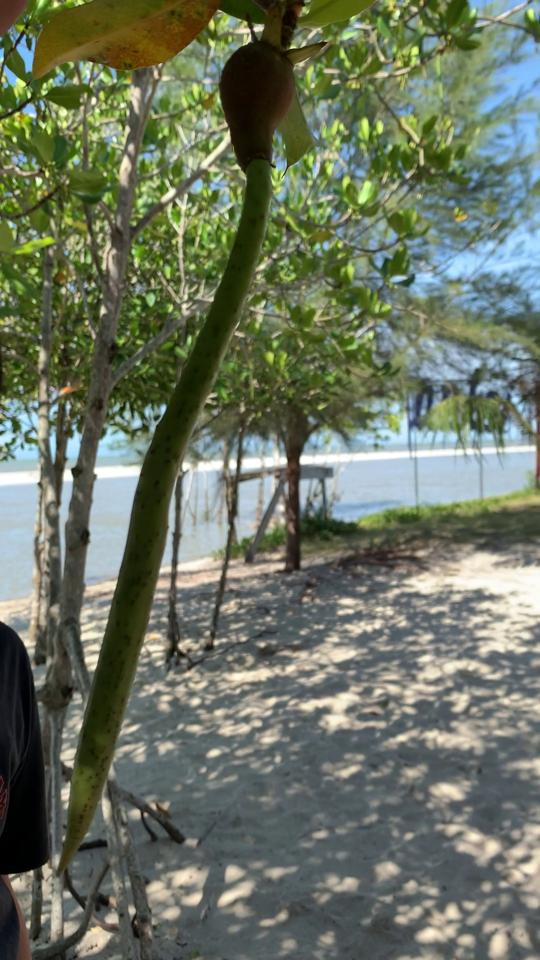mentah: (33, 21, 338, 888)
